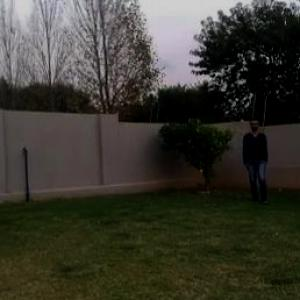follow: (245, 113, 269, 207)
